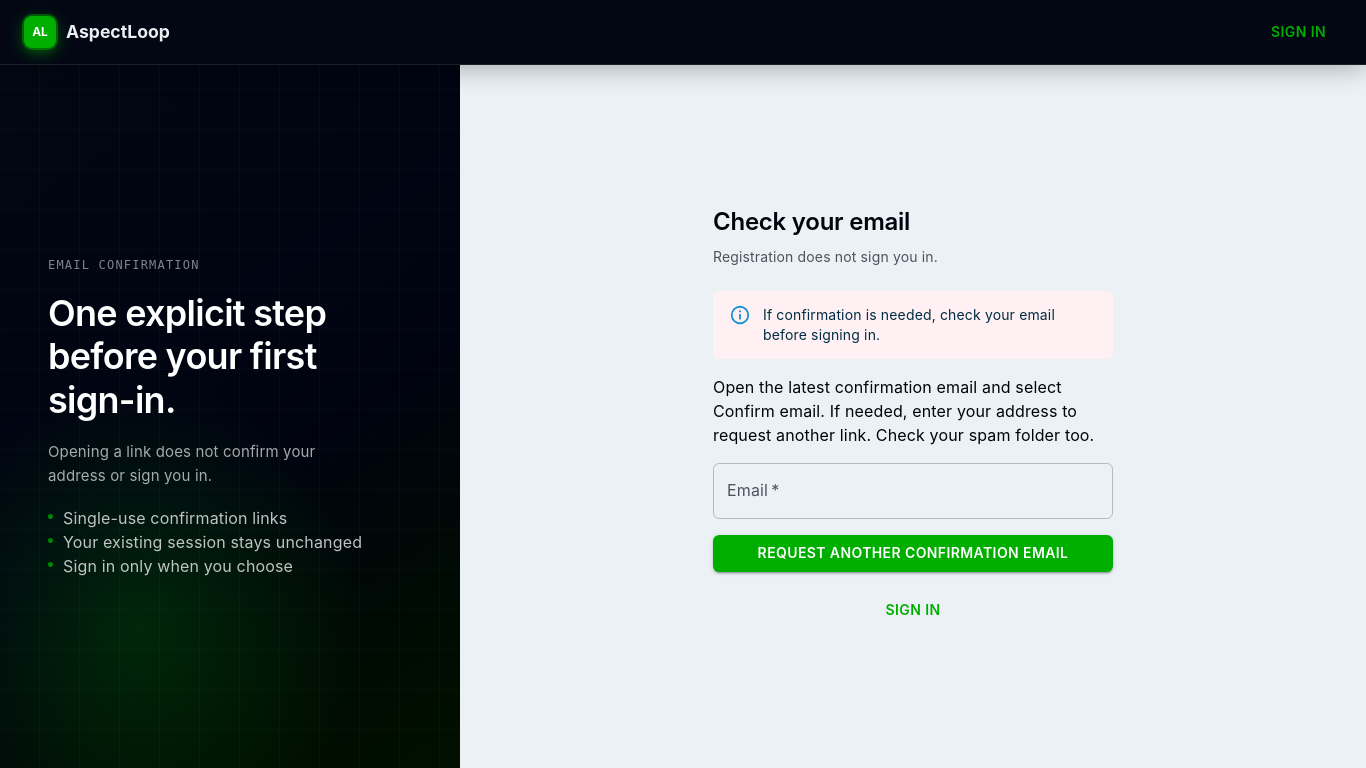
explicit email confirmation integration › acknowledges resend neutrally and bounds its local UI timer
This screenshot has width=1366, height=768.
Type "unknown-fixture@example.test" into the field labelled "Email". click: [913, 491]
box: [713, 463, 1113, 519]
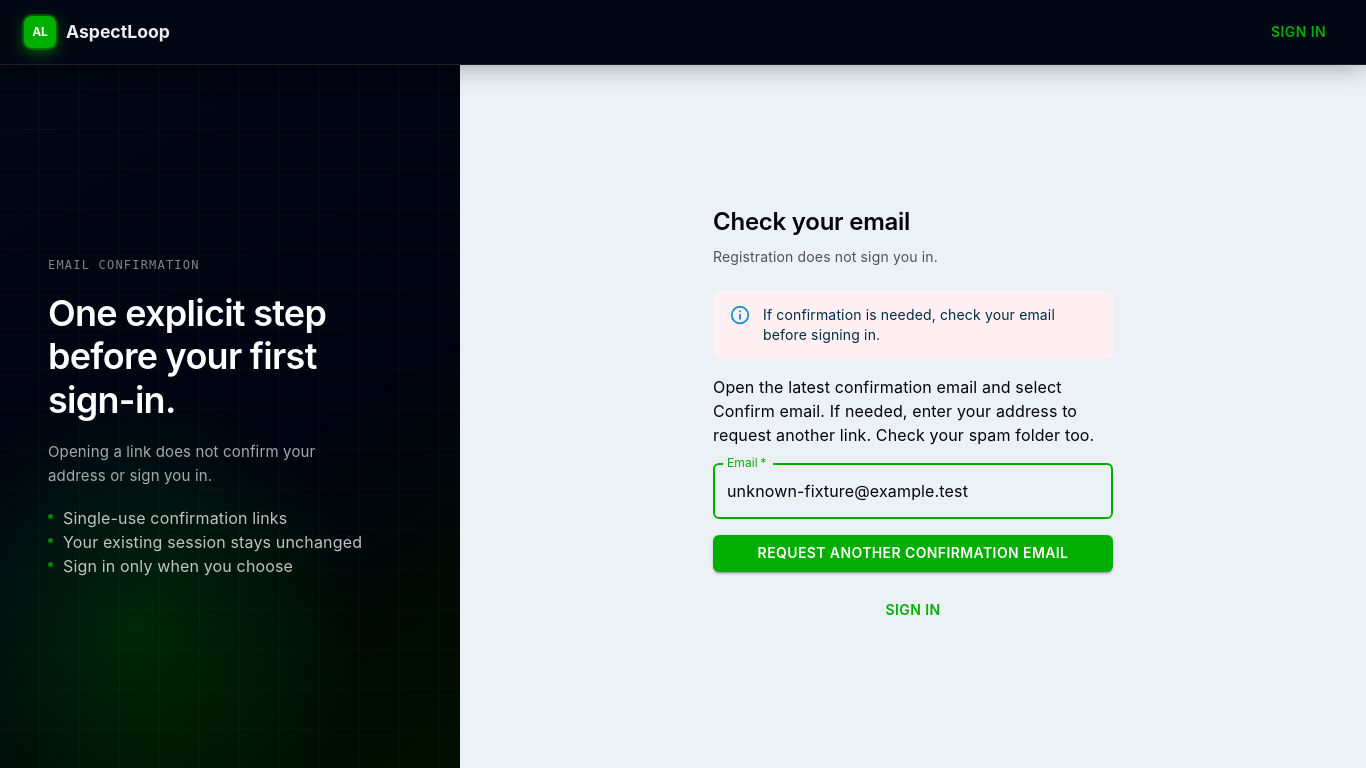
Click the button "Request another confirmation email". click: [913, 553]
box: [713, 535, 1113, 572]
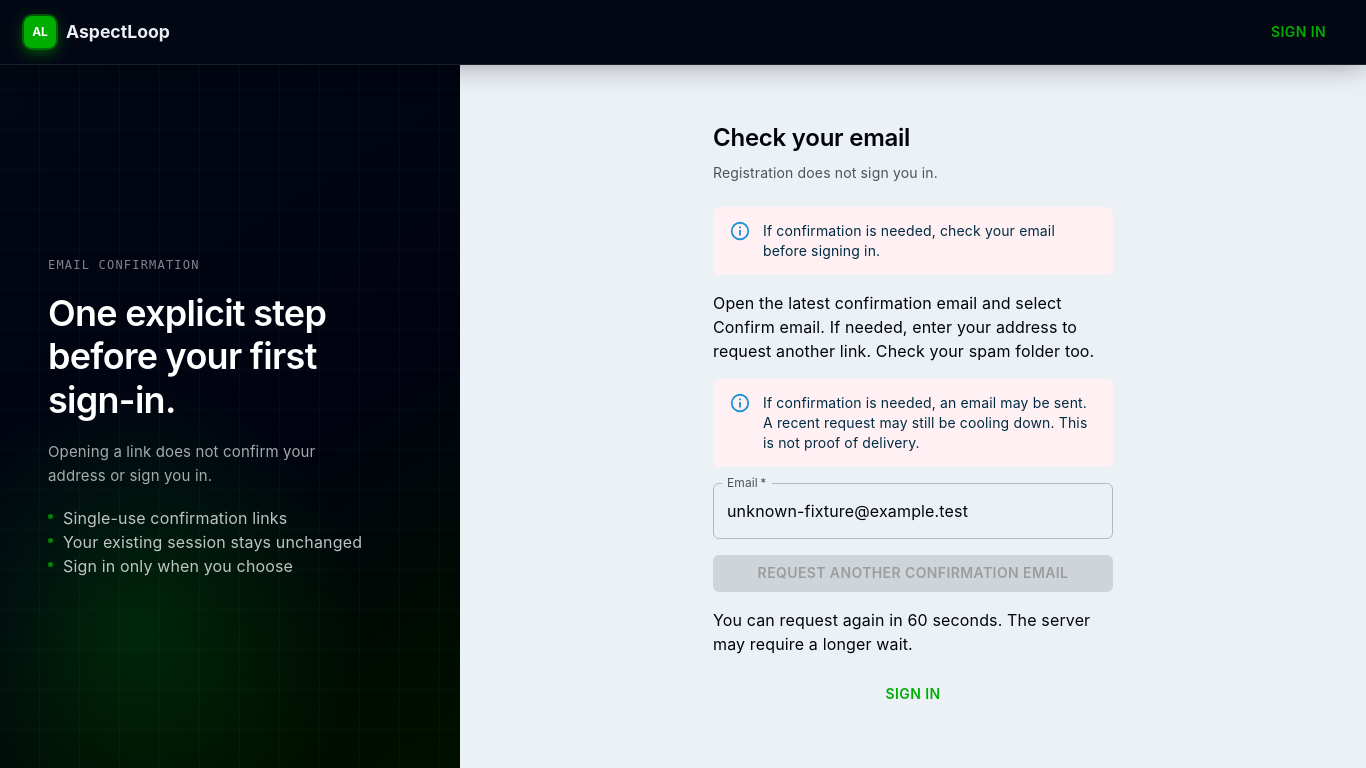
expect the text "This is not proof of delivery" is shown: met, box [763, 394, 1087, 451]
expect the button "Request another confirmation email" is disabled: met, box [713, 555, 1113, 592]
